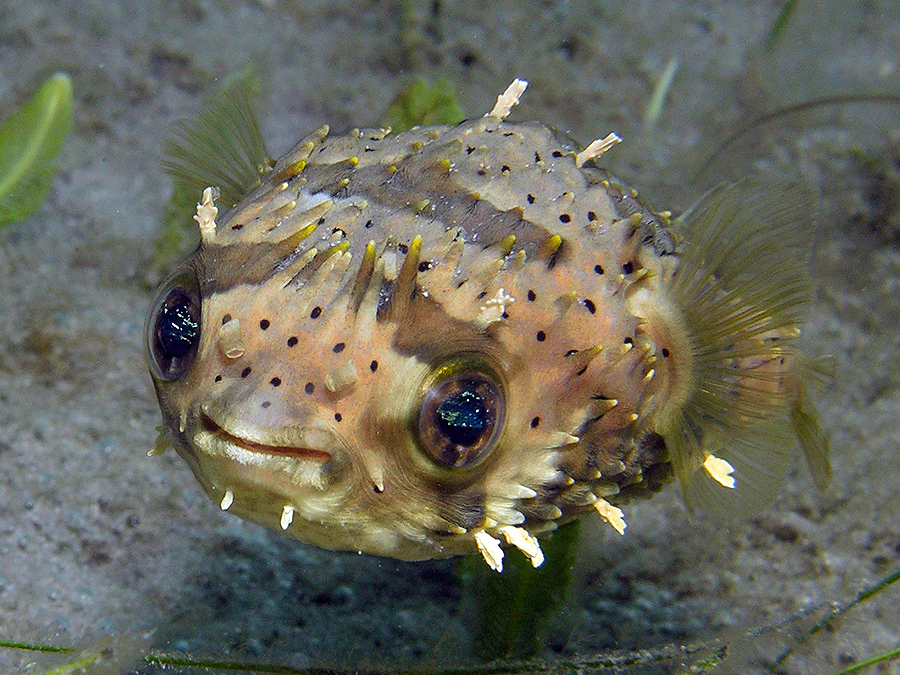Diodon_holocanthus: (122, 90, 805, 593)
